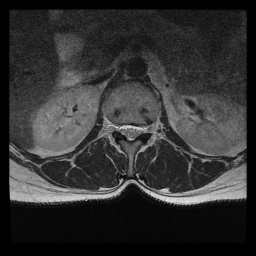CCS_normal: (127, 116, 134, 147)
LFS_normal: (142, 119, 151, 138)
LLS_normal: (134, 118, 142, 140)
RFS_normal: (113, 115, 120, 138)
RLS_normal: (120, 116, 127, 141)
